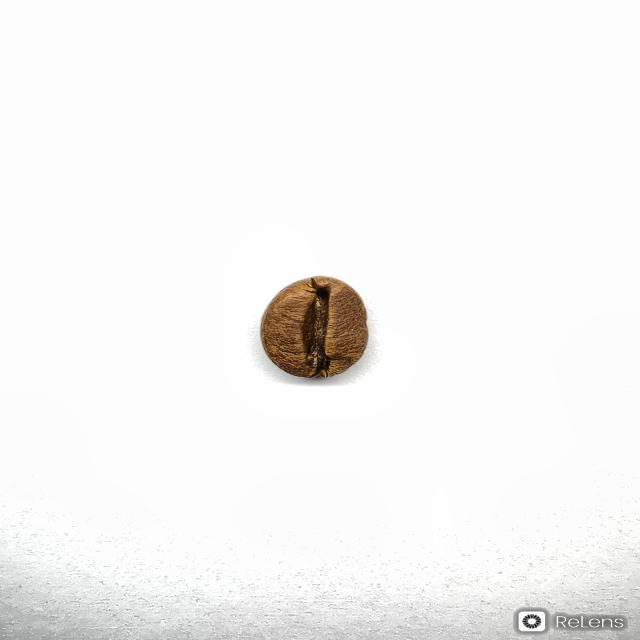Good bean: (259, 275, 369, 378)
